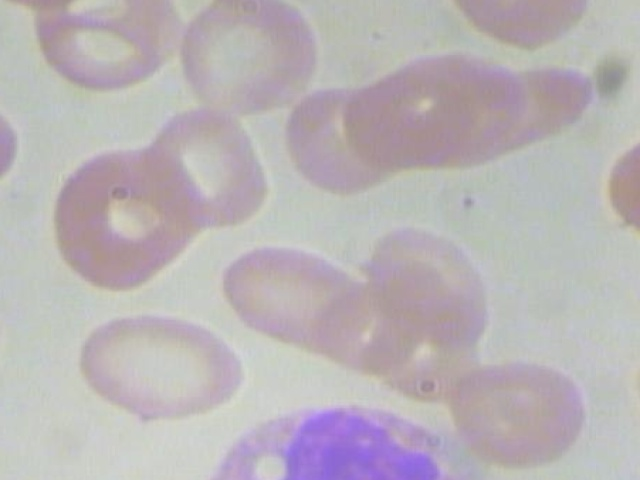Platelets: (627, 271, 640, 325)
RBC: (33, 143, 218, 294), (55, 304, 246, 432), (210, 227, 368, 364), (162, 0, 327, 118), (448, 343, 589, 473), (338, 69, 486, 182), (365, 217, 490, 349), (592, 118, 640, 248), (0, 66, 35, 193), (0, 271, 12, 394)
WBC: (177, 404, 516, 480)
